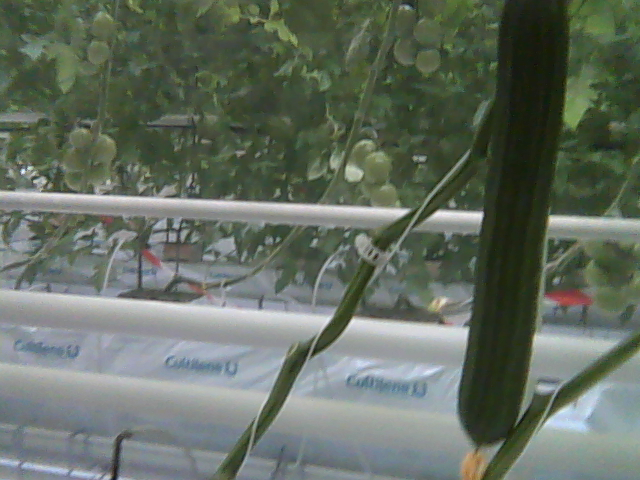concombre: (453, 1, 573, 480)
